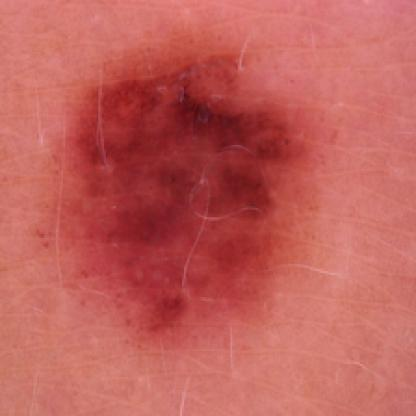benign: (78, 58, 290, 316)
